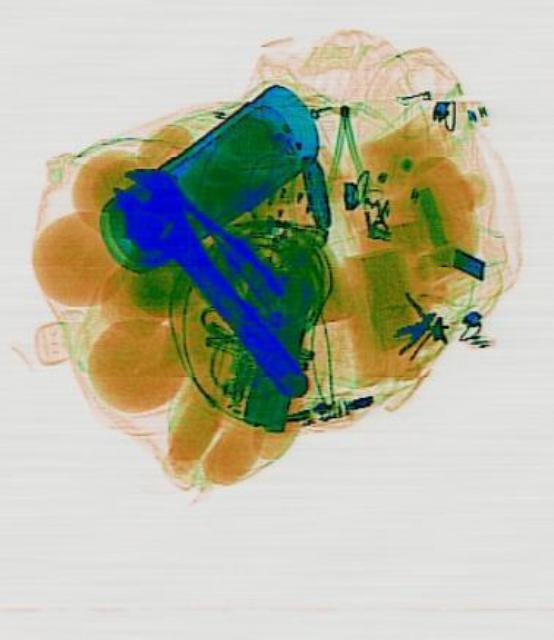Wrench: (93, 146, 330, 420)
